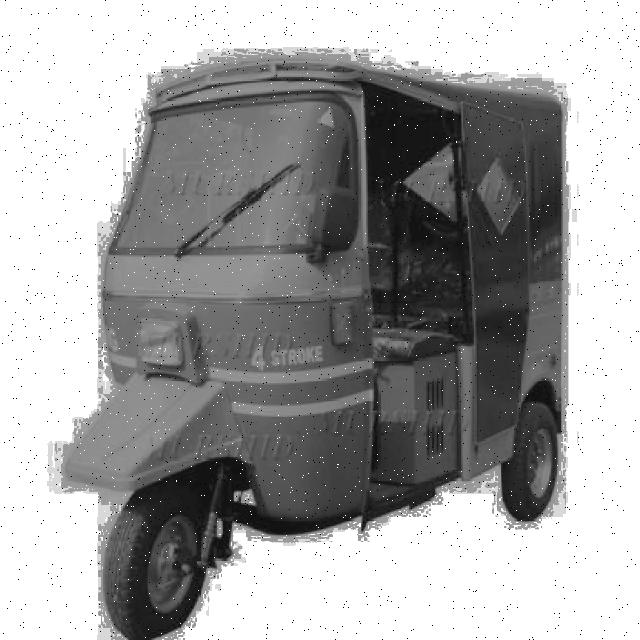Auto-Rickshaw: (75, 67, 562, 640)
